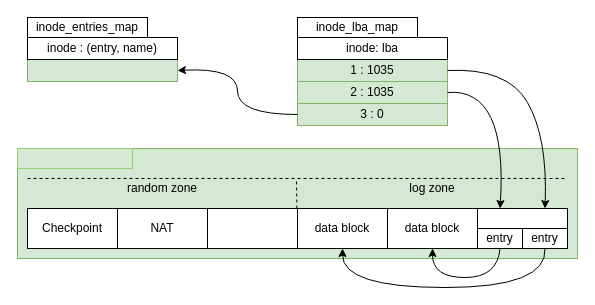
This 595x305 diagram has some shape labels left out. Each missing label, with the centre of its shape:
3 : (entry, ".gitlab-ci.yml"): point (102, 70)
FluffleFS: point (74, 158)
Inode block: point (522, 218)
SIT: point (252, 228)
